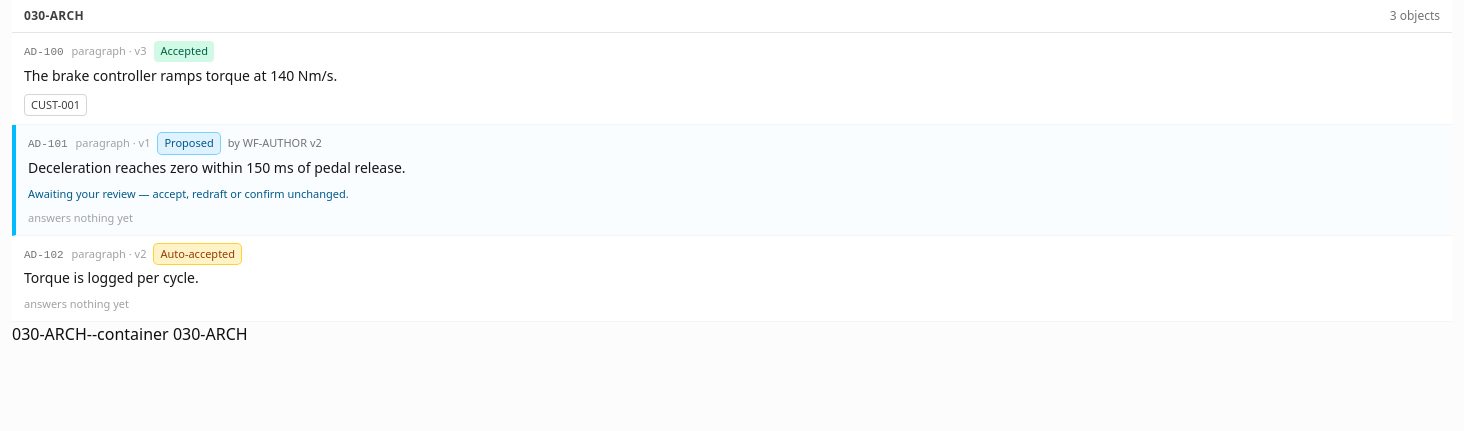
Test case: in-place link expansion (R-500-017) › expanding a link selects the requirement for the other regions
The image size is (1464, 431).
What coordinates should you click on to do the following:
click the button with test id "link-AD-100-CUST-001"
I would click on:
 (56, 105)
Its box is [24,94,87,116].
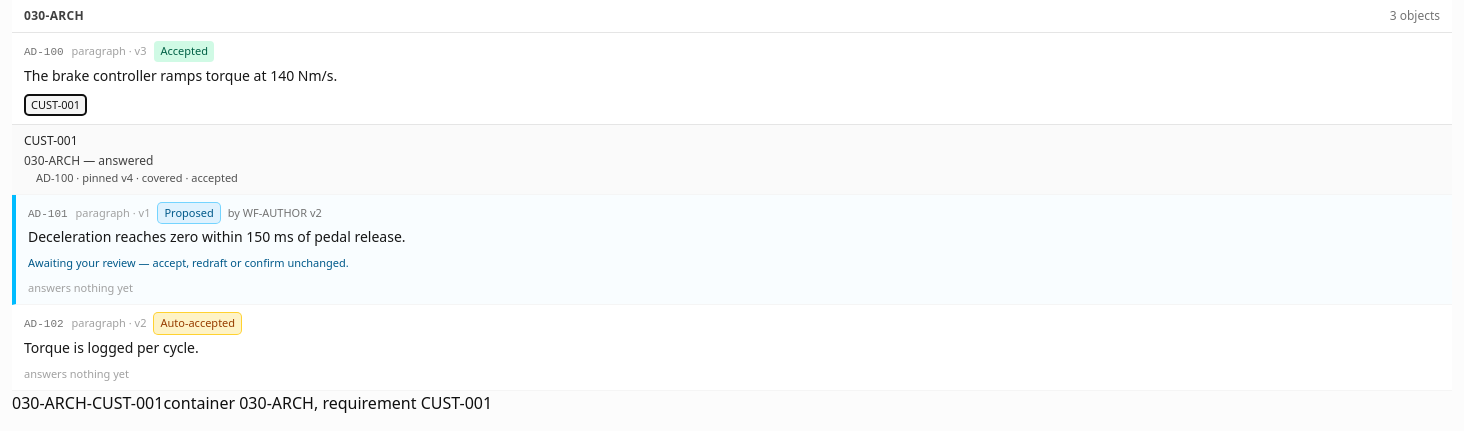
expect the text with test id "probe-requirement" reads "CUST-001": met, box [92,392,163,414]
